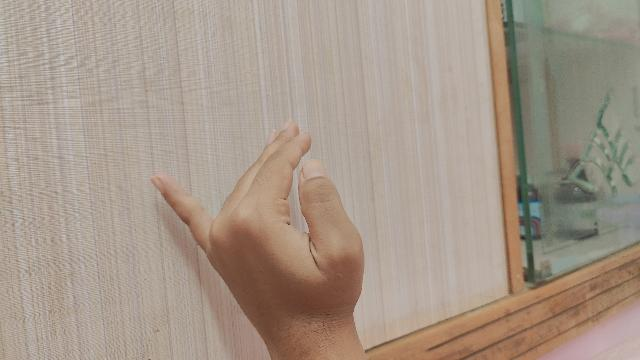Hamsapaksha: (152, 123, 365, 360)
